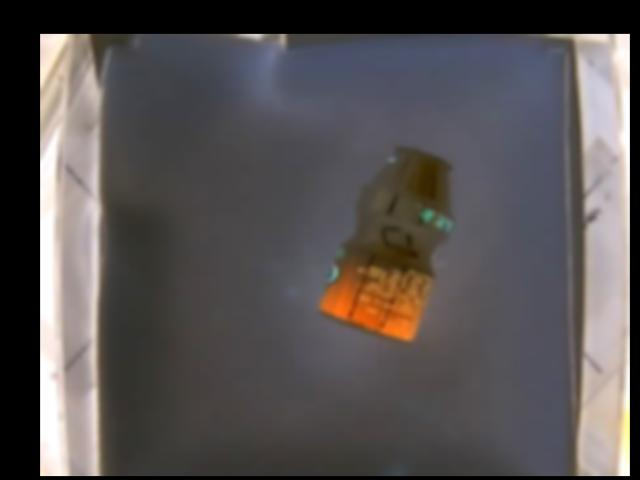Bottle: (316, 146, 452, 344)
